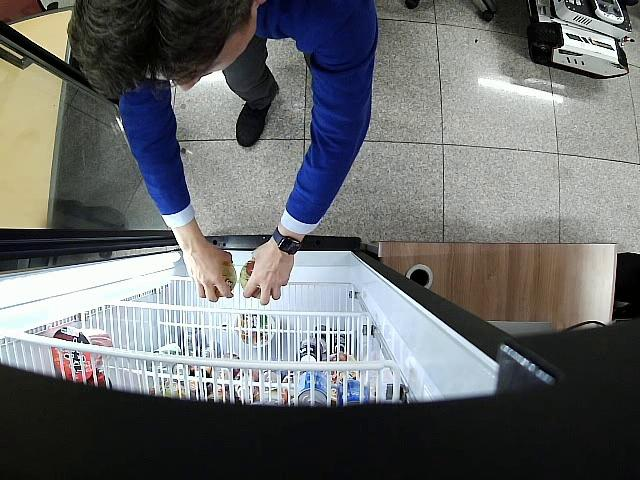00_hand: (182, 227, 234, 302), (243, 243, 292, 305)
04_chapagetti_S: (239, 260, 260, 300), (215, 263, 237, 297)
